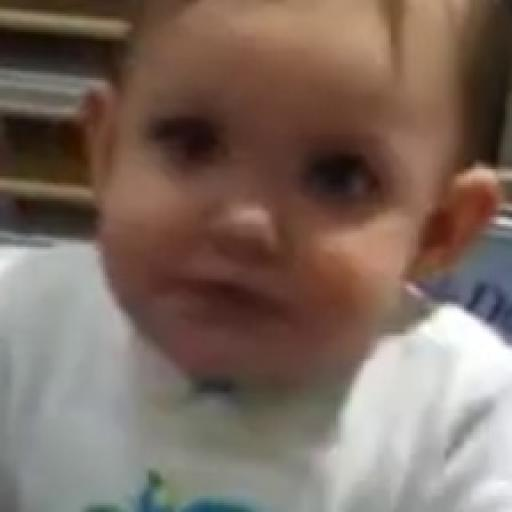Autism: (105, 16, 445, 407)
